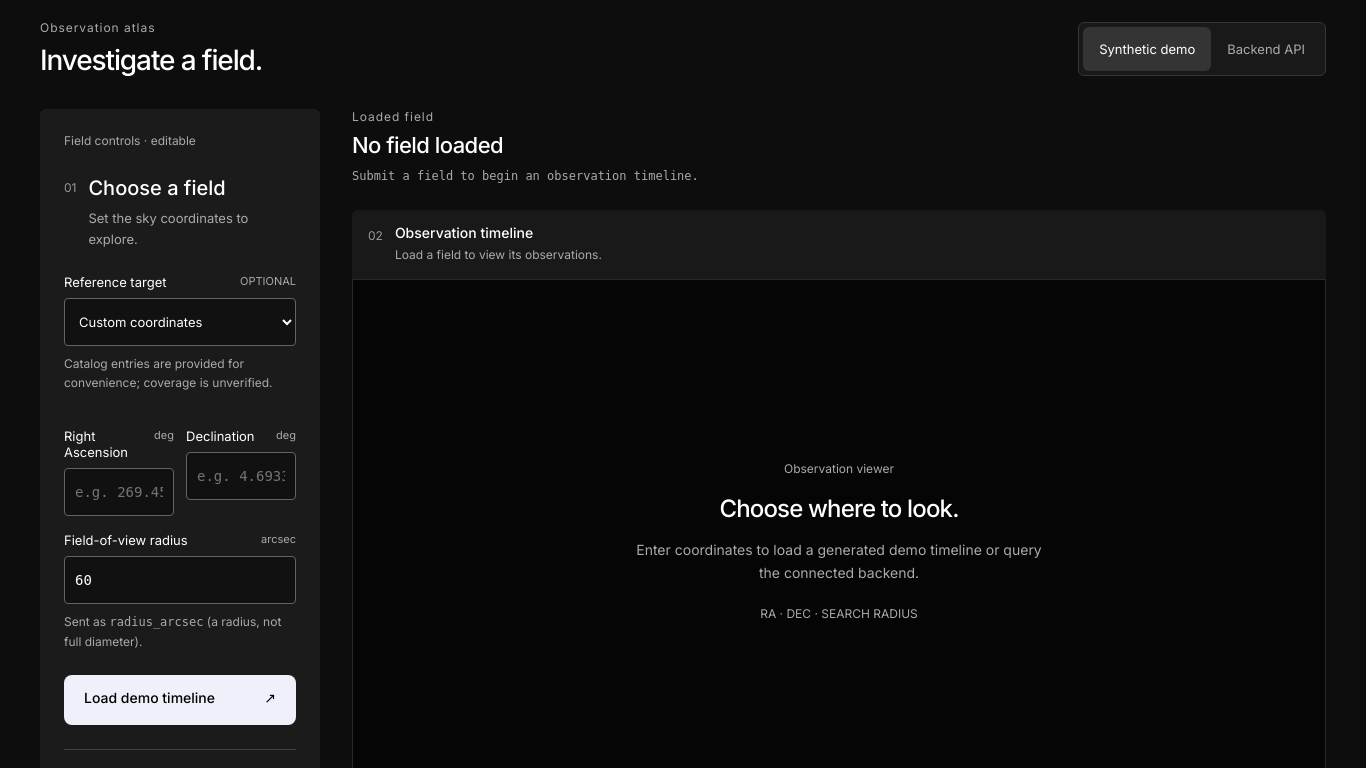
Scenario: frontend interaction › shows a useful error when the backend cannot be reached
The width and height of the screenshot is (1366, 768).
(page scrolled)
Click the button "Backend API" at (1266, 48), box [1211,26,1321,70]
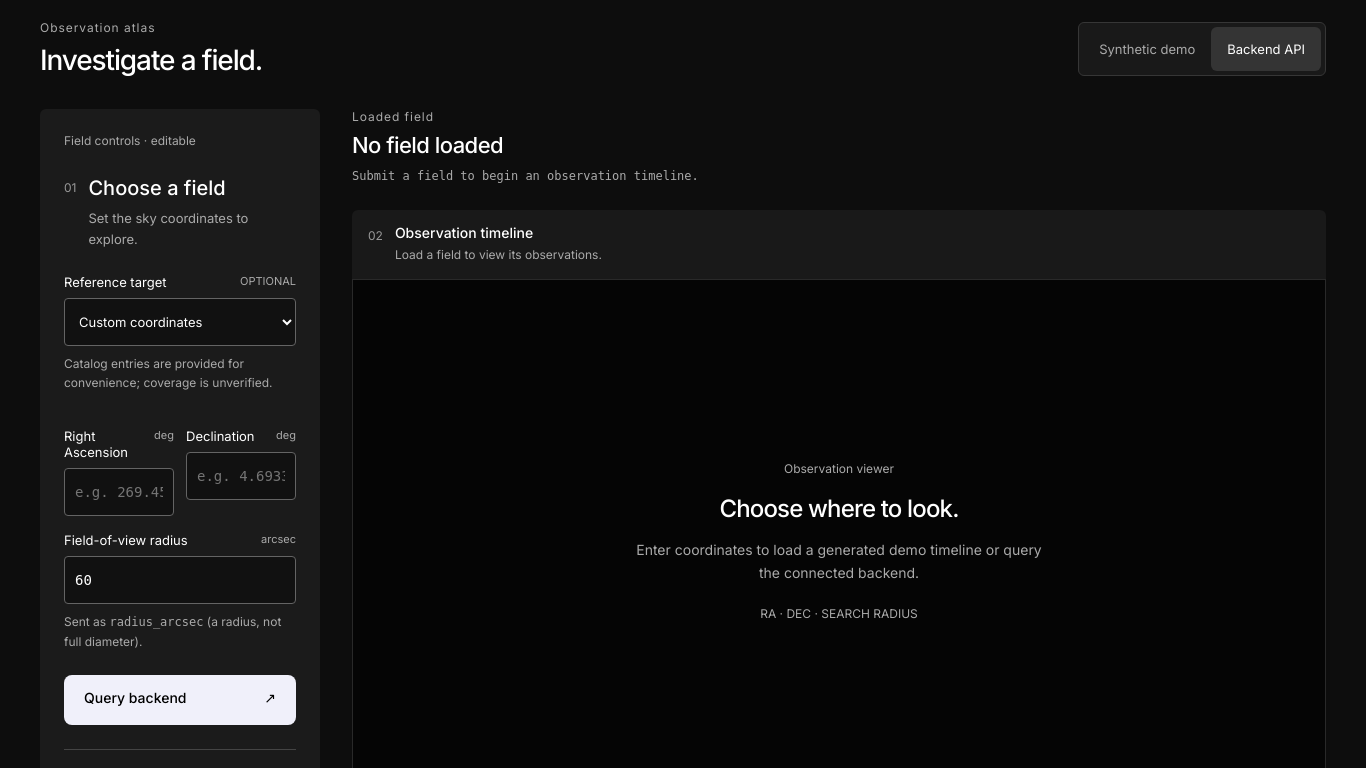
Type "10" into the field labelled "Right Ascension deg" at (119, 492), box [64,468,174,516]
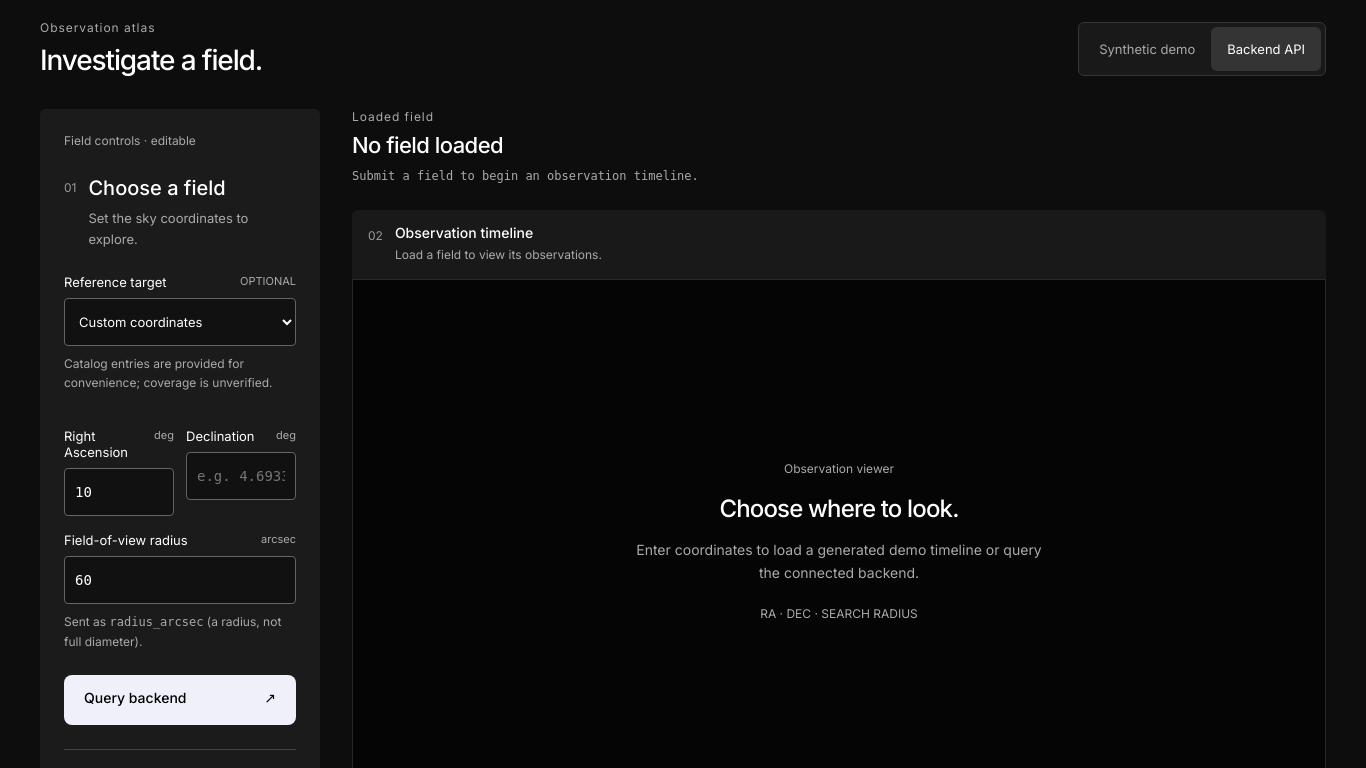
Type "-2" into the field labelled "Declination deg" at (241, 476), box [186,452,296,500]
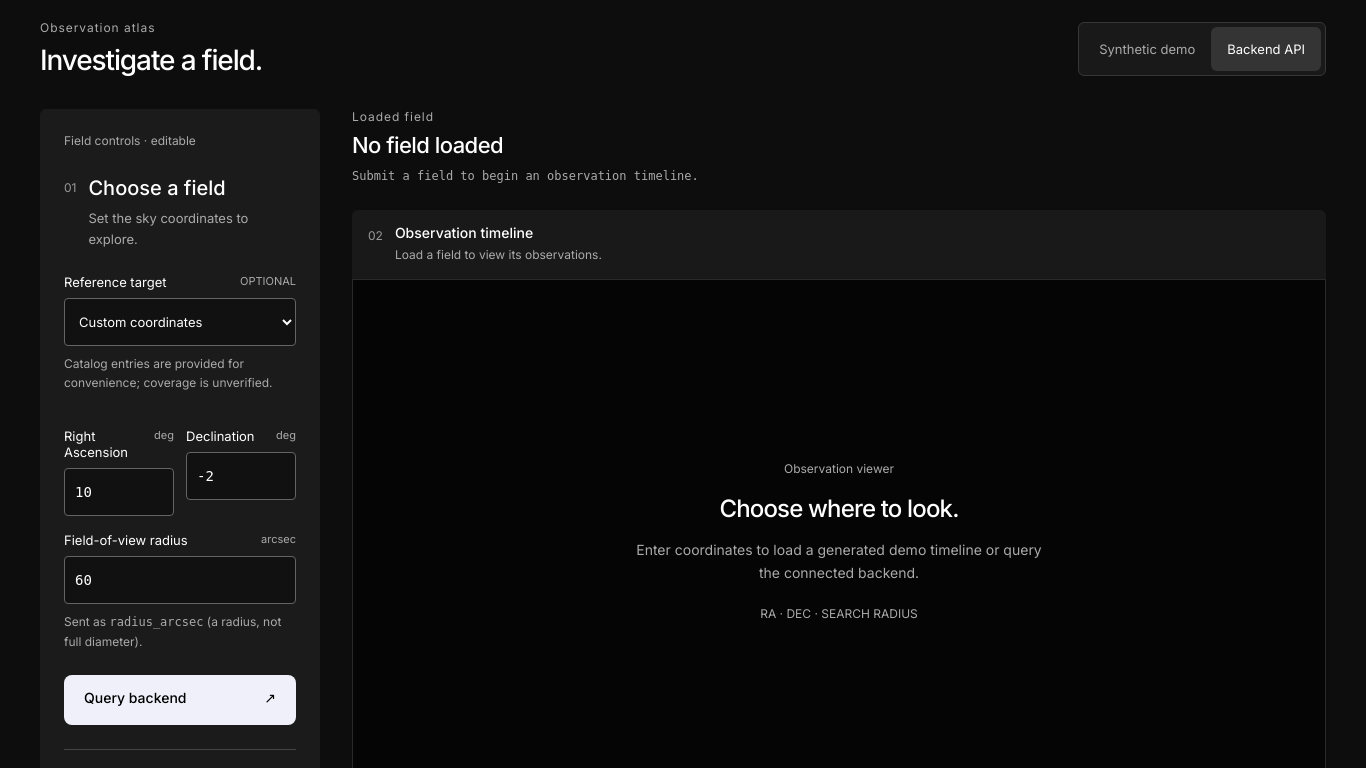
Type "30" into the field labelled "Field-of-view radius arcsec" at (180, 580), box [64,556,296,604]
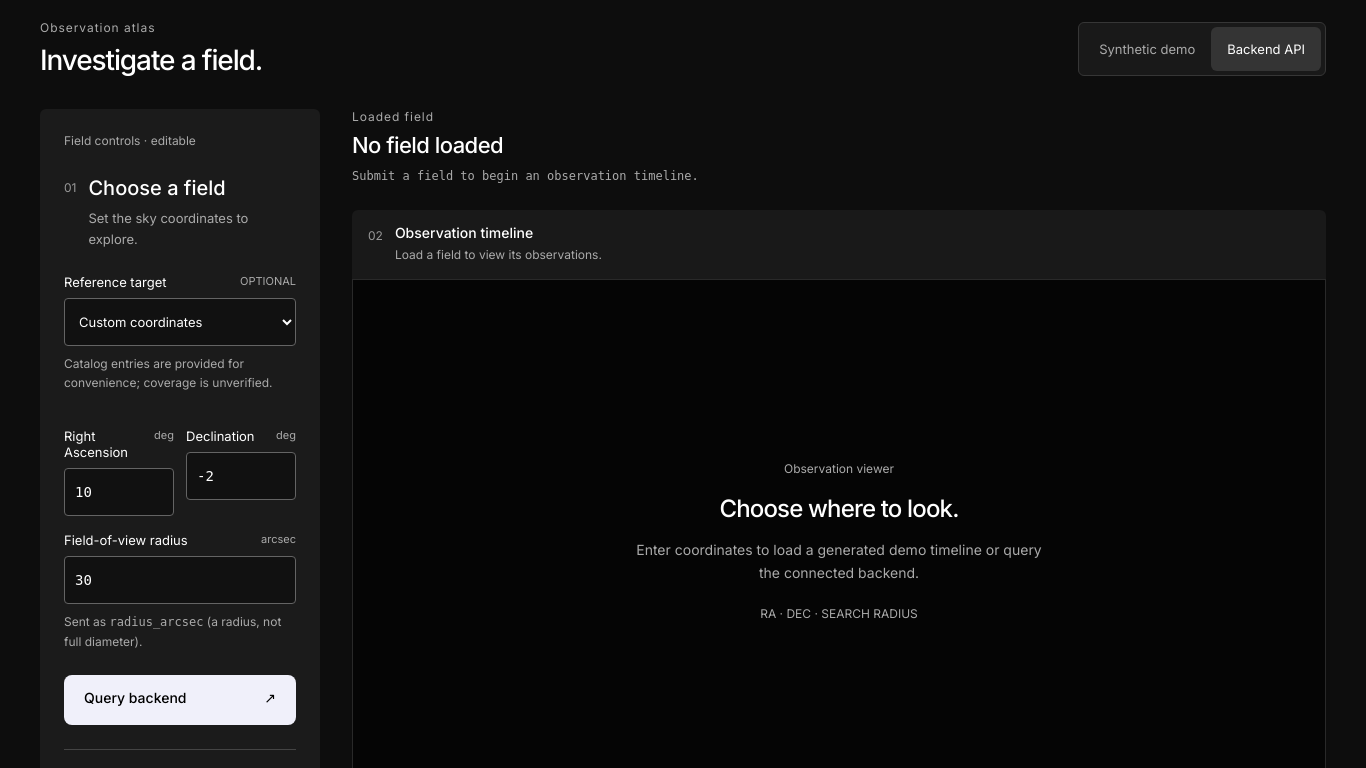
Click the button "Query backend ↗" at (180, 700), box [64,675,296,725]
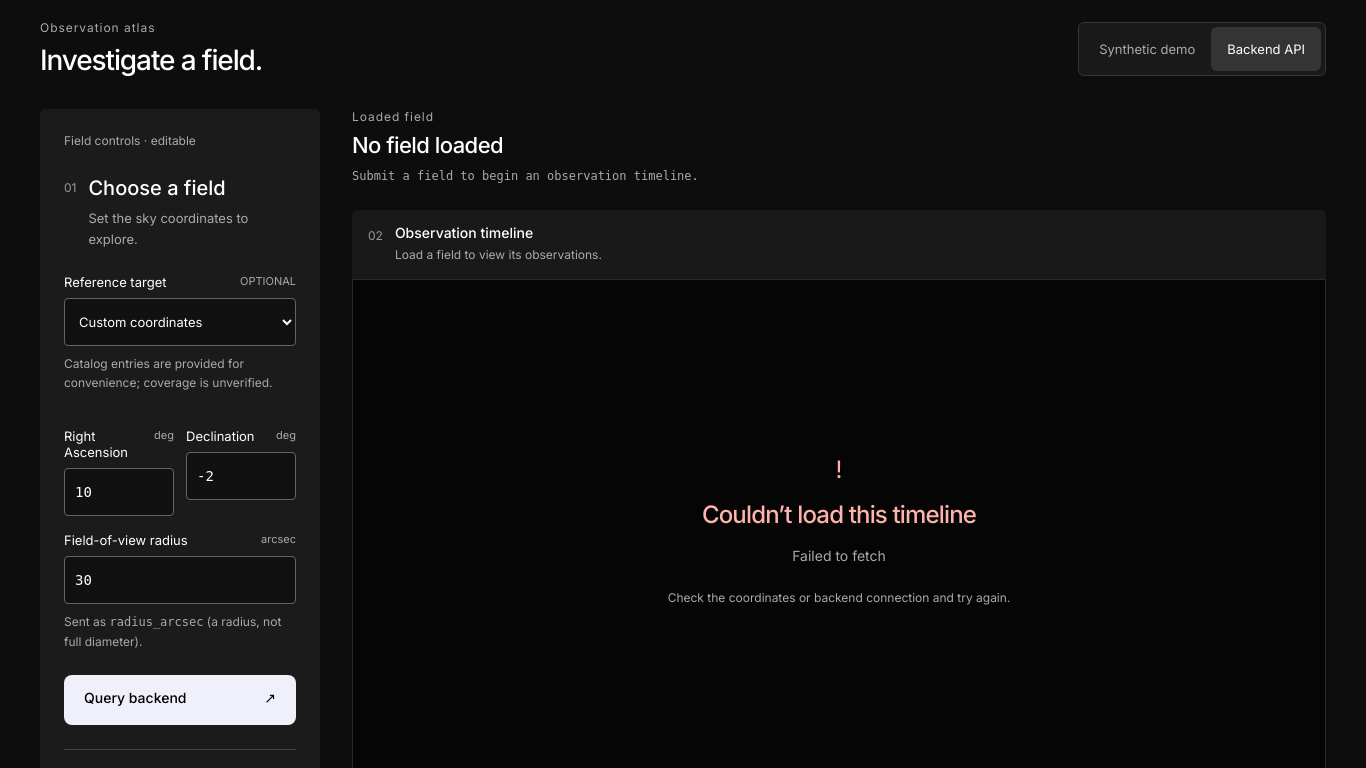
Result: the message shows "Failed to fetch" at [792,548,886,564]
Result: the text "Check the coordinates or backend connection and try again." is shown at [668,588,1010,607]
